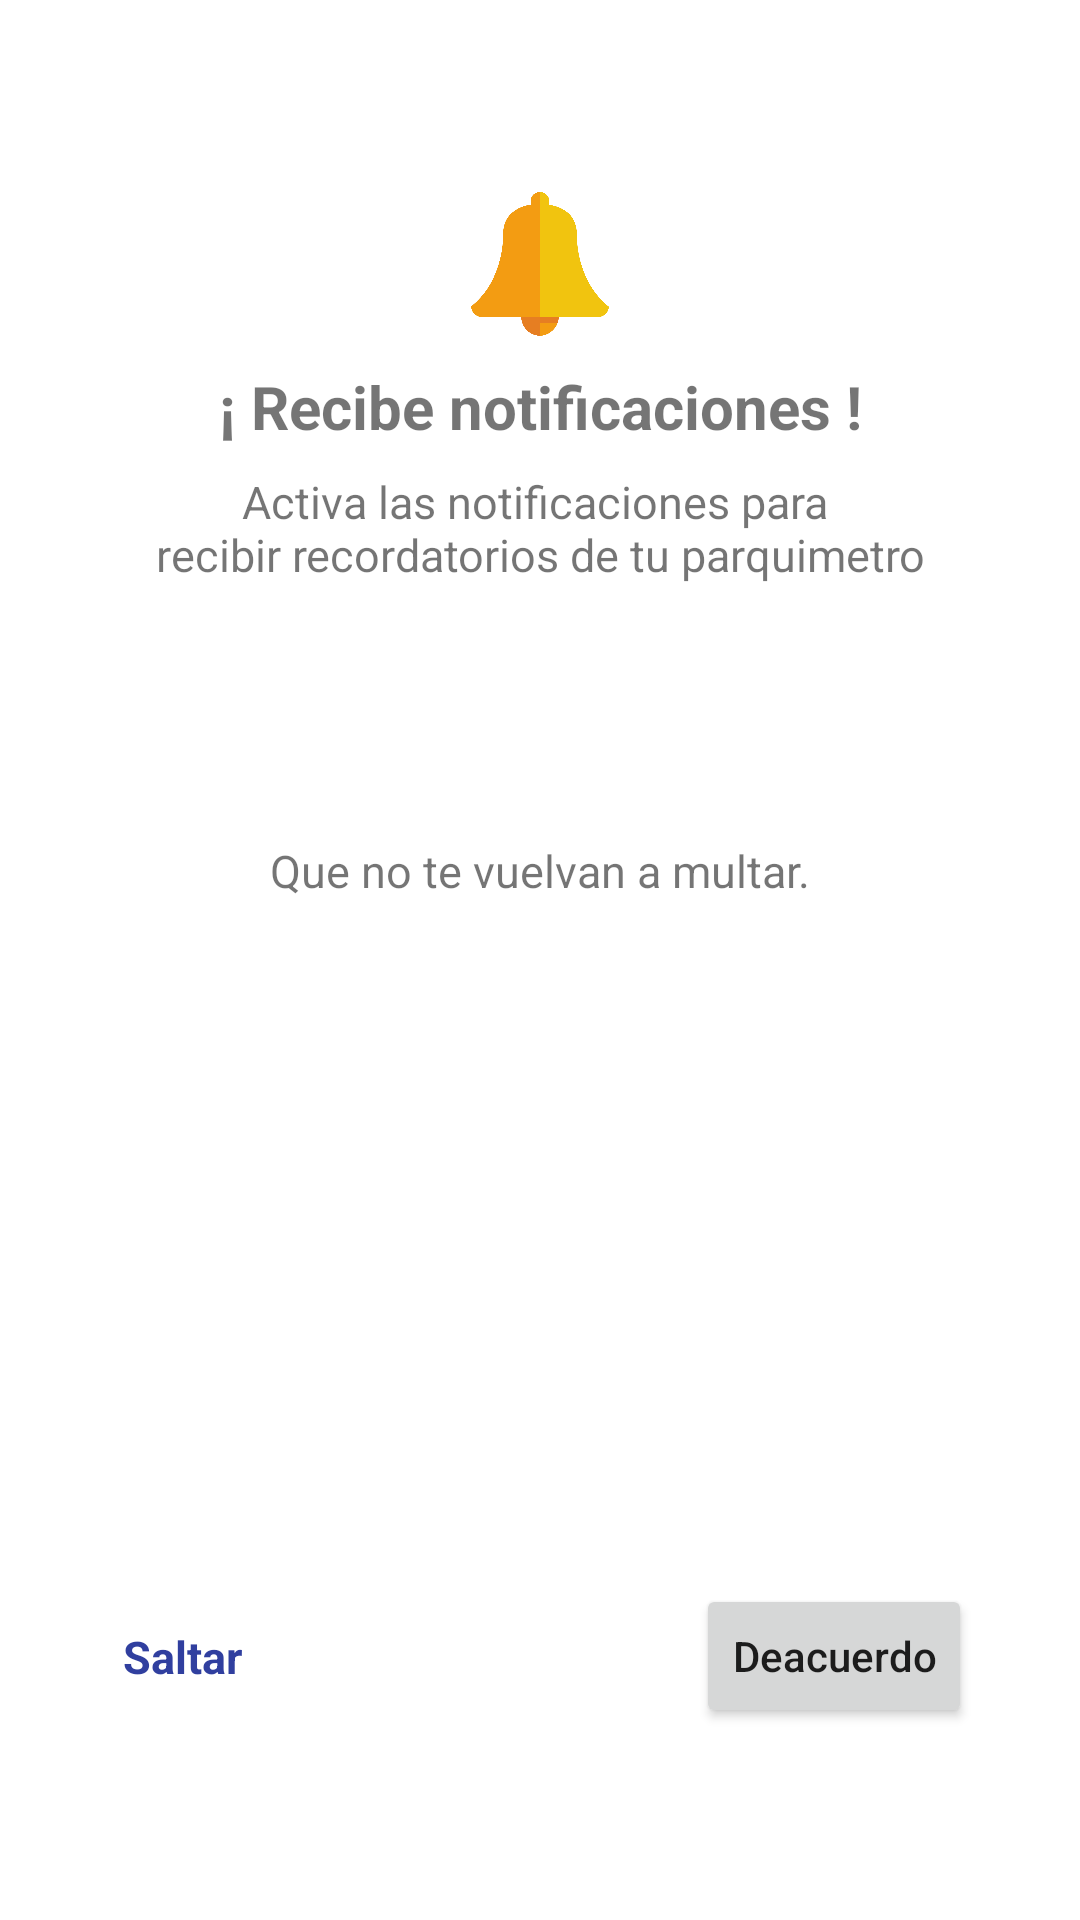

Icons on this 1080px×1920px Android screen, each with its box as (x1, y1, x2, y2):
campana: (471, 192, 609, 336)
